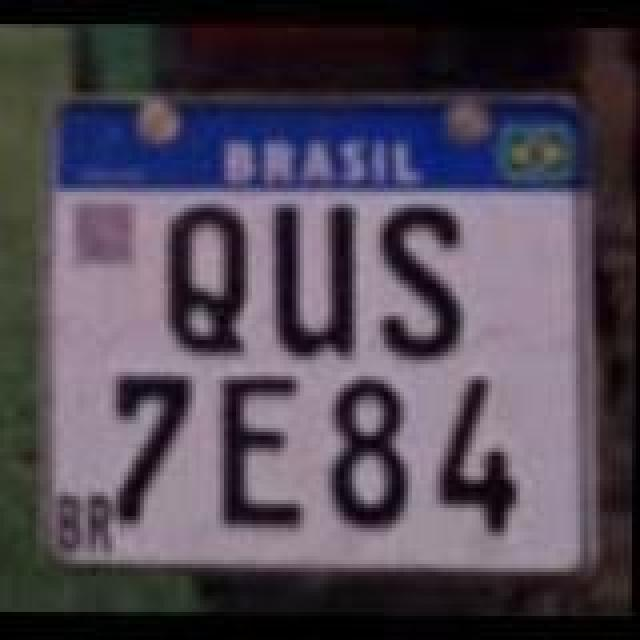4: (440, 368, 524, 532)
7: (110, 370, 190, 526)
8: (328, 372, 412, 528)
E: (220, 372, 312, 528)
Q: (168, 202, 256, 362)
S: (374, 198, 466, 358)
U: (270, 198, 362, 366)
